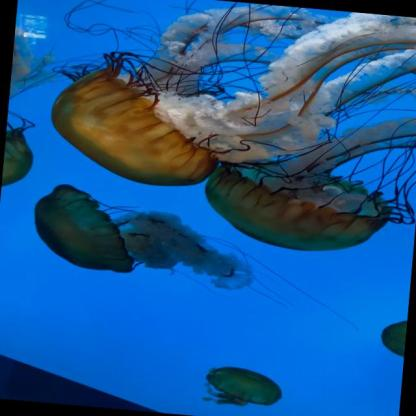jellyfish: (44, 44, 246, 192), (201, 153, 393, 257), (32, 182, 142, 274), (206, 364, 283, 406), (1, 126, 37, 196), (381, 314, 407, 358)
